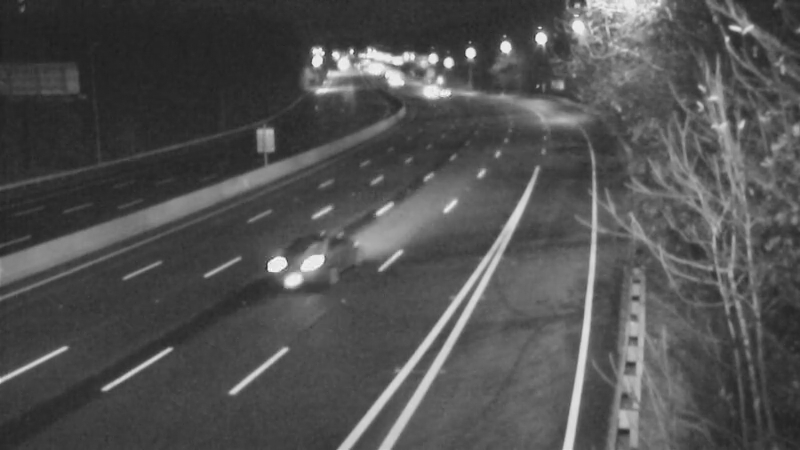vehicle: (278, 211, 358, 291), (400, 64, 450, 114), (420, 69, 470, 119)
